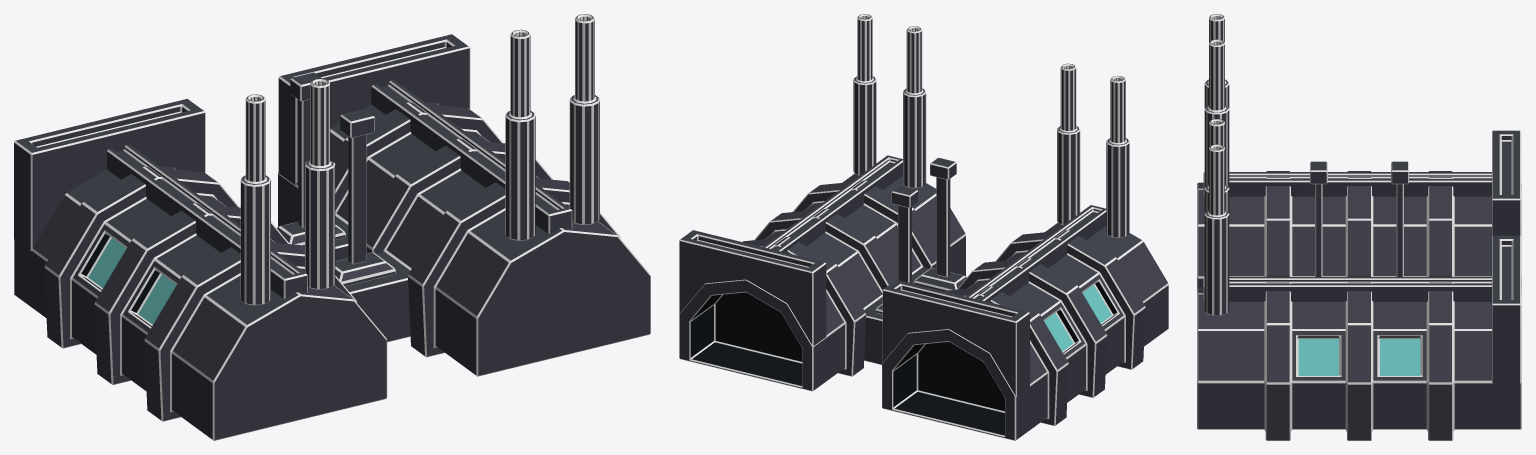
Rendered from Fabtic.fbx.
3 views of the same model, side by side, from view 1: azimuth 30°, elevation 25°; view 2: azimuth 150°, elevation 25°; view 3: azimuth 270°, elevation 25° (orthographic). The views are drawn at different scales.
Visible parts, largest first — view 1: Cube; view 2: Cube; view 3: Cube.
Part boxes in pixels (x1,y1,x2,y2): Cube: [14, 14, 650, 440]; Cube: [679, 14, 1168, 440]; Cube: [1197, 14, 1521, 440].
Size of the model in its own units: 11.12 by 7.61 by 8.33.
